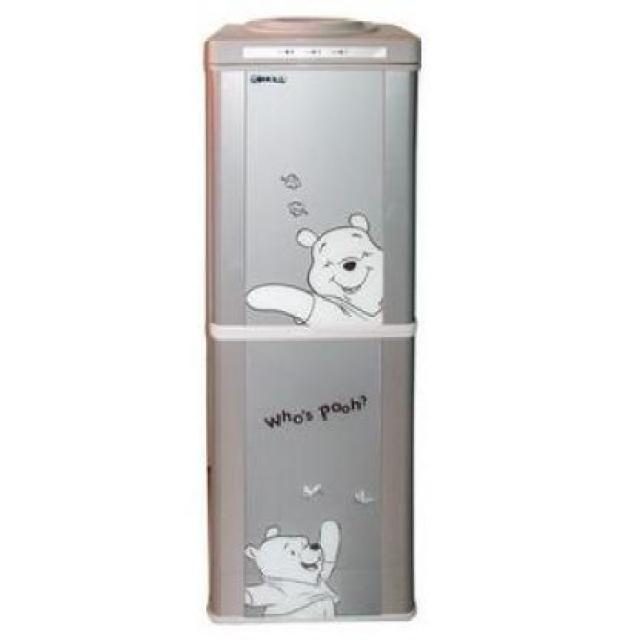cooler: (197, 13, 420, 624)
